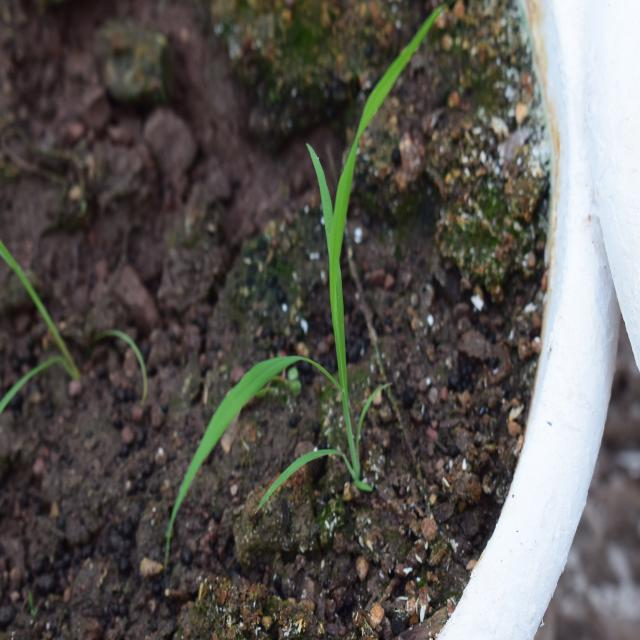barnyard_grass: (170, 32, 468, 540)
